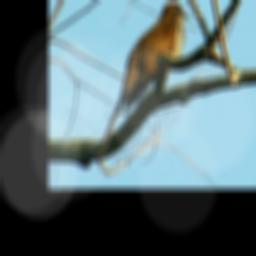Cuckoo: (121, 1, 191, 114)
